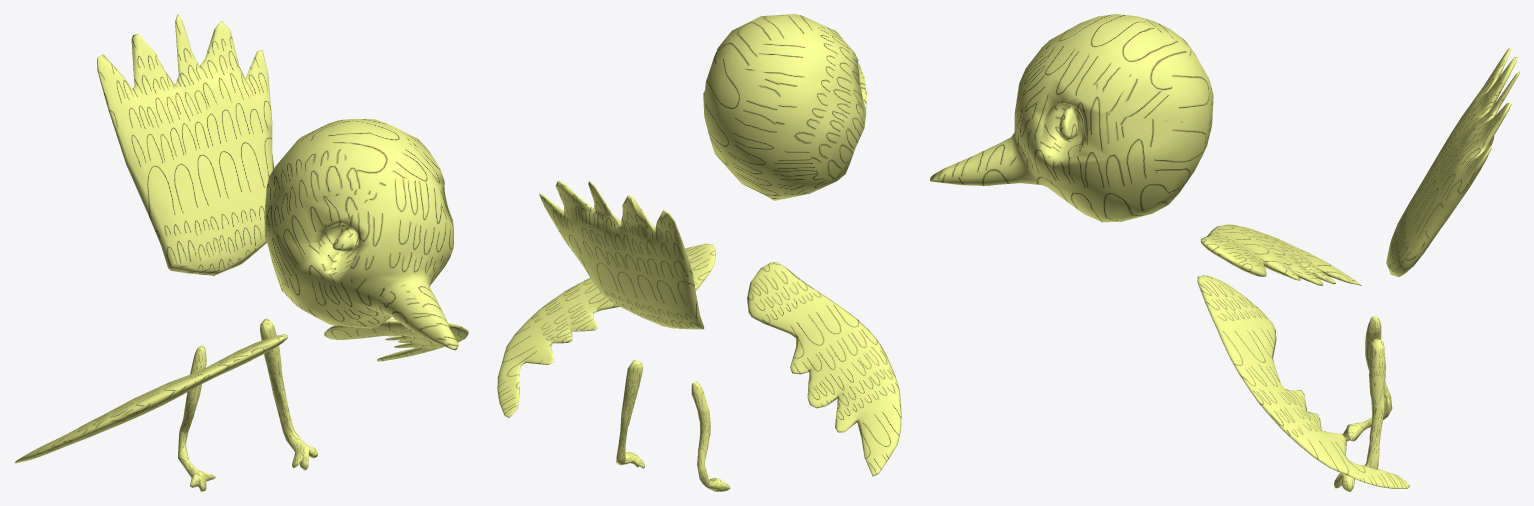
File: ch2_bird.glb
The picture shows the model from 3 angles, left to right: view 1: azimuth 30°, elevation 25°; view 2: azimuth 150°, elevation 25°; view 3: azimuth 270°, elevation 25°; orthographic projection. The views are drawn at different scales.
Visible parts, largest first — view 1: _h2, _r21, _b21, _b22, _r23, _r22; view 2: _h2, _b21, _r21, _b22, _r23, _r22; view 3: _h2, _b22, _r21, _b21, _r23, _r22.
Part boxes in pixels (left/top/right/bottom): _h2: left=264, top=119, right=458, bottom=350; _r21: left=97, top=14, right=273, bottom=275; _b21: left=14, top=334, right=287, bottom=463; _b22: left=324, top=319, right=468, bottom=361; _r23: left=260, top=318, right=317, bottom=470; _r22: left=178, top=345, right=215, bottom=491; _h2: left=703, top=14, right=866, bottom=200; _b21: left=747, top=262, right=901, bottom=476; _r21: left=539, top=180, right=704, bottom=329; _b22: left=497, top=243, right=715, bottom=417; _r23: left=616, top=360, right=644, bottom=468; _r22: left=691, top=381, right=730, bottom=491; _h2: left=930, top=14, right=1213, bottom=222; _b22: left=1197, top=275, right=1409, bottom=488; _r21: left=1386, top=48, right=1519, bottom=277; _b21: left=1201, top=224, right=1361, bottom=285; _r23: left=1334, top=338, right=1385, bottom=491; _r22: left=1343, top=316, right=1392, bottom=441.
Size of the model in its own units: 1.27 by 1.22 by 1.48.
1 material, 1 textured.
